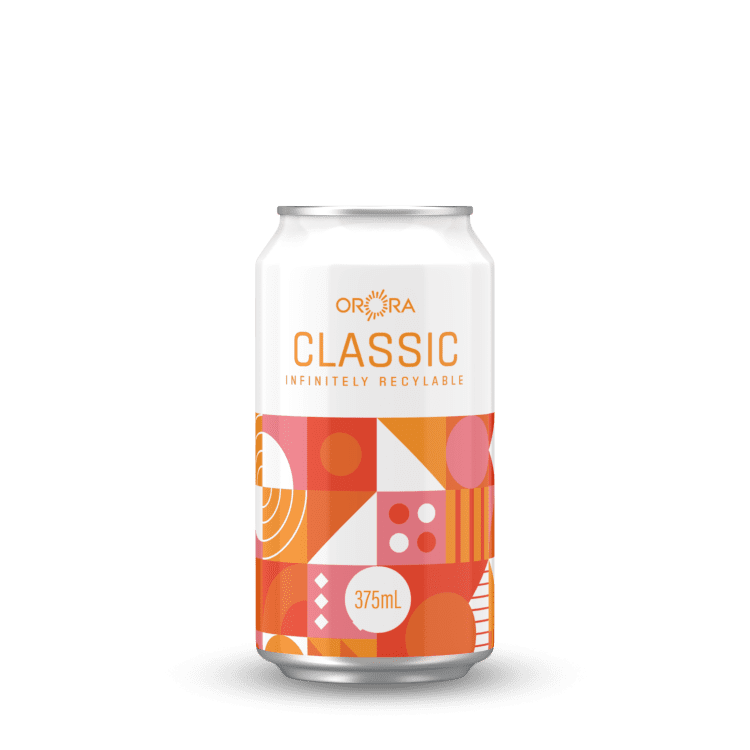can: (254, 195, 516, 703)
